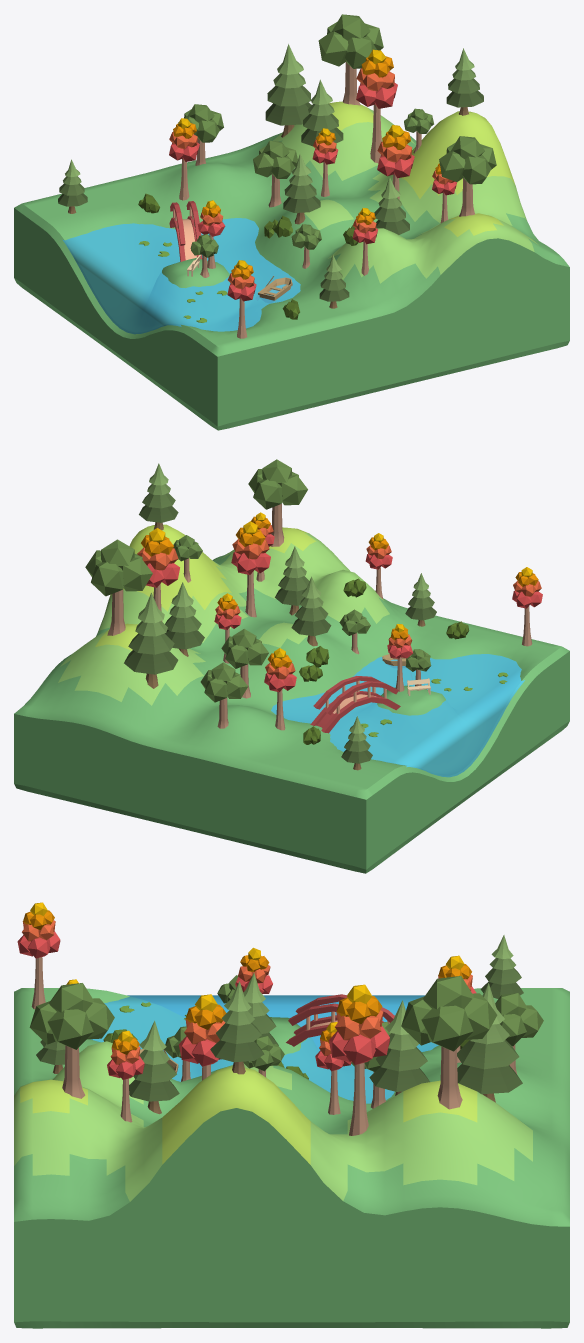
File: backgroud.gltf
3 renders of one model, top to bottom at view 1: azimuth 30°, elevation 25°; view 2: azimuth 150°, elevation 25°; view 3: azimuth 270°, elevation 25°, orthographic. The views are drawn at different scales.
Parts seen in each view (by area): view 1: terrain, water, pPlatonic5 (×2), pPlatonic2 (×2), pPlatonic1 (×2), pCone4, pCone3, pCube1, pCube2; view 2: terrain, water, pCone4 (×4), pPlatonic3 (×2), pPlatonic5 (×2), pPlatonic1 (×2), pCube1, pCube2, pCone3, pCylinder1; view 3: terrain, water, pCone4 (×4), pCone3 (×4), pPlatonic4 (×3), pPlatonic1 (×3), pCylinder1 (×2), pPlatonic3 (×2), pPlatonic2 (×2), pCylinder2, pCube2, pPlatonic13 (+1 smaller).
Part boxes in pixels (bbox=[...]): terrain: bbox=[14, 101, 569, 430]; water: bbox=[62, 218, 300, 334]; pPlatonic5 (×2): bbox=[318, 31, 465, 181]; pPlatonic2 (×2): bbox=[345, 36, 491, 184]; pPlatonic1 (×2): bbox=[331, 14, 484, 159]; pCone4: bbox=[265, 102, 311, 125]; pCone3: bbox=[267, 85, 310, 106]; pCube1: bbox=[169, 216, 202, 261]; pCube2: bbox=[170, 201, 201, 245]; terrain: bbox=[14, 524, 569, 873]; water: bbox=[271, 654, 524, 777]; pCone4 (×4): bbox=[124, 505, 331, 674]; pPlatonic3 (×2): bbox=[91, 479, 282, 596]; pPlatonic5 (×2): bbox=[121, 475, 307, 591]; pPlatonic1 (×2): bbox=[101, 459, 291, 568]; pCube1: bbox=[310, 691, 400, 733]; pCube2: bbox=[313, 676, 398, 715]; pCone3: bbox=[128, 633, 174, 654]; pCylinder1: bbox=[107, 589, 125, 635]; terrain: bbox=[14, 988, 569, 1328]; water: bbox=[91, 995, 438, 1103]; pCone4 (×4): bbox=[129, 1040, 522, 1101]; pCone3 (×4): bbox=[133, 1022, 519, 1083]; pPlatonic4 (×3): bbox=[47, 1005, 526, 1051]; pPlatonic1 (×3): bbox=[49, 976, 527, 1016]; pCylinder1 (×2): bbox=[62, 1045, 462, 1109]; pPlatonic3 (×2): bbox=[86, 993, 497, 1039]; pPlatonic2 (×2): bbox=[29, 996, 431, 1045]; pCylinder2: bbox=[349, 1063, 368, 1135]; pCube2: bbox=[288, 994, 394, 1025]; pPlatonic13: bbox=[343, 1034, 375, 1064].
Size of the model in its own units: 143 by 94.3 by 143.
